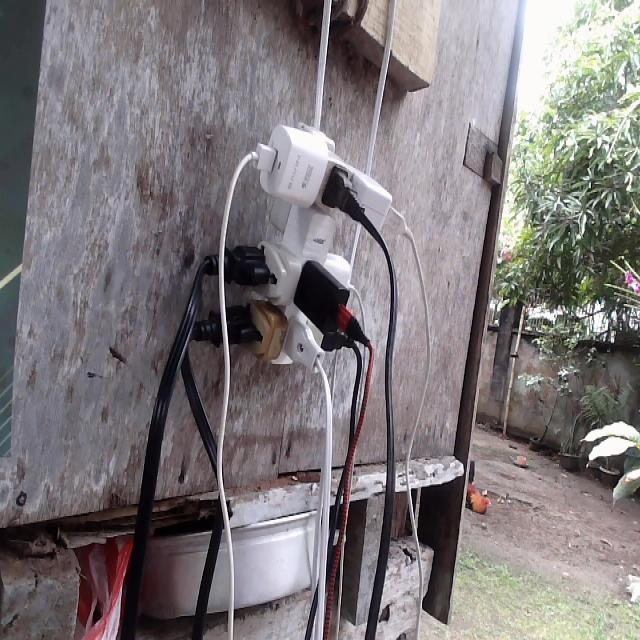-: (209, 118, 401, 374)
